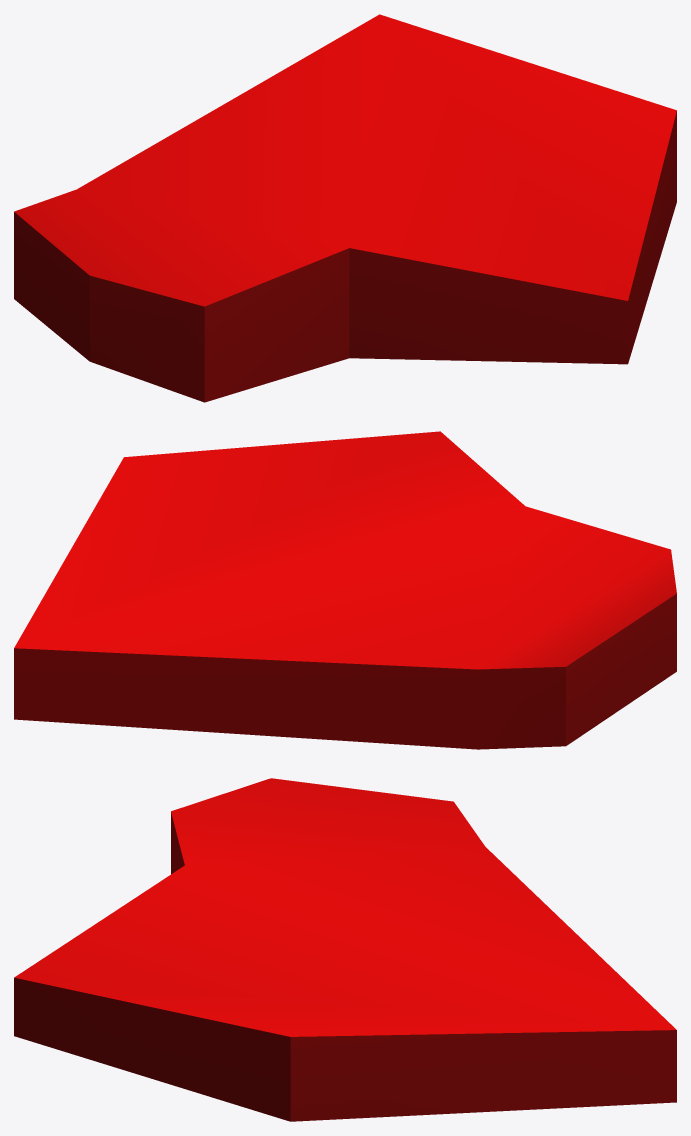
Rendered from geology-landforms-icedrift_v10.fbx.
3 views of the same model, one above another, from view 1: azimuth 30°, elevation 25°; view 2: azimuth 150°, elevation 25°; view 3: azimuth 270°, elevation 25° (orthographic). The views are drawn at different scales.
Visible parts, largest first — view 1: IceDrift_v10; view 2: IceDrift_v10; view 3: IceDrift_v10.
Boxes of the visible parts, box(x1,y1,x2,y2) form: IceDrift_v10: box(14, 14, 676, 402); IceDrift_v10: box(14, 431, 676, 749); IceDrift_v10: box(14, 778, 676, 1121).
Size of the model in its own units: 2.61 by 0.5155 by 2.71.
